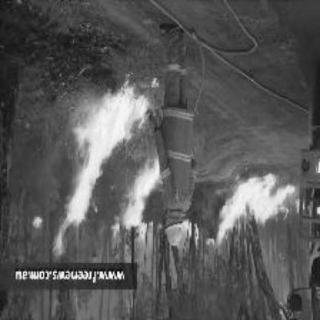Fire: (62, 89, 140, 260), (206, 171, 290, 240), (120, 164, 158, 250)
